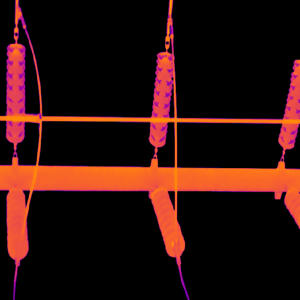insulator: (148, 184, 186, 258), (147, 50, 175, 148), (3, 40, 26, 146), (275, 58, 300, 150), (5, 185, 30, 261)
